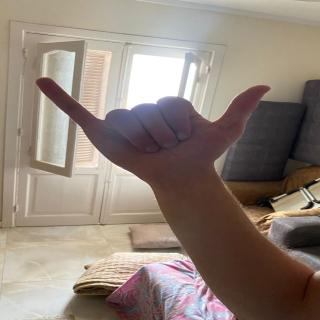YA: (25, 70, 281, 171)
